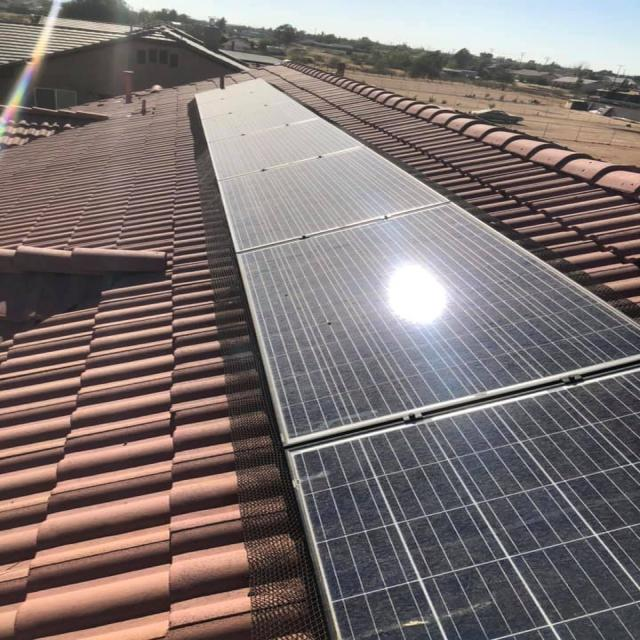dust-solar-panel: (195, 79, 638, 640)
